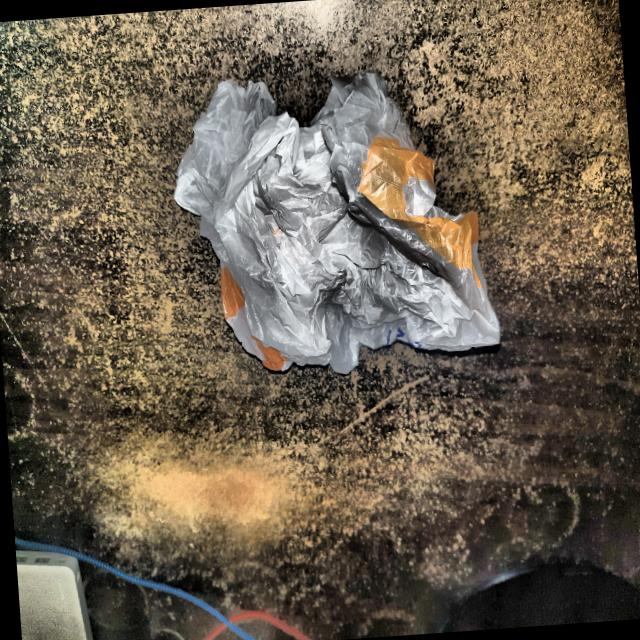plastic bag: (159, 40, 510, 398)
